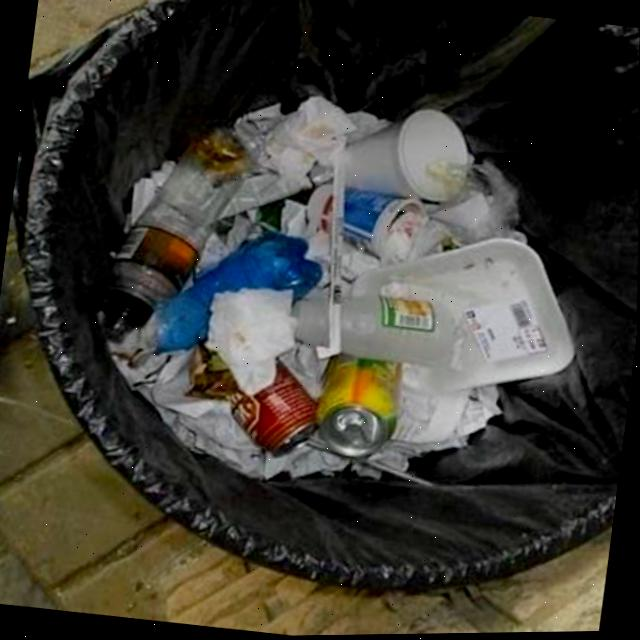Garbage: (98, 97, 573, 480)
Plastic_Container: (340, 241, 573, 389), (295, 294, 328, 347)
Plastic_bottle: (99, 129, 252, 343), (155, 234, 321, 350)
can: (189, 348, 316, 456), (318, 356, 400, 456)
